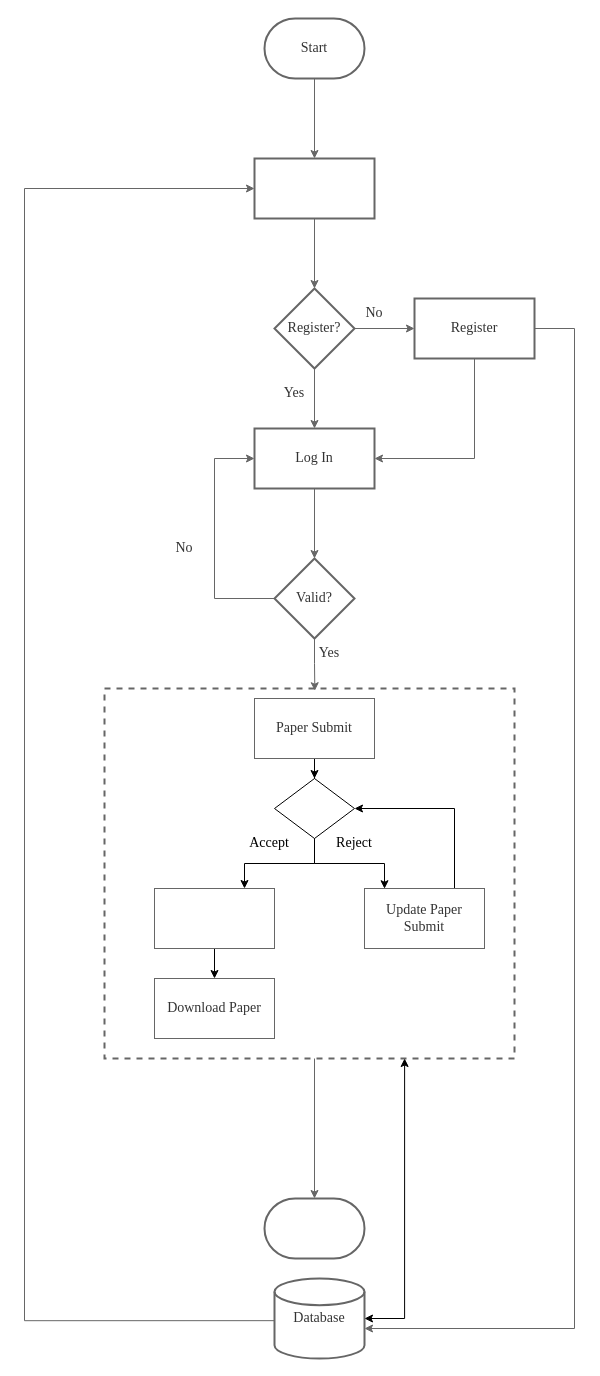
The diagram is 600 pixels wide and 1376 high, and some of its shapes have lost their labels. The shapes that lost their labels are listed below. From the top down, each one's centre as x and y in pixels, then its label:
At (x=314, y=188): "Home Page".
At (x=314, y=808): "Accept/ Reject".
At (x=214, y=918): "Payment".
At (x=314, y=1228): "End".
